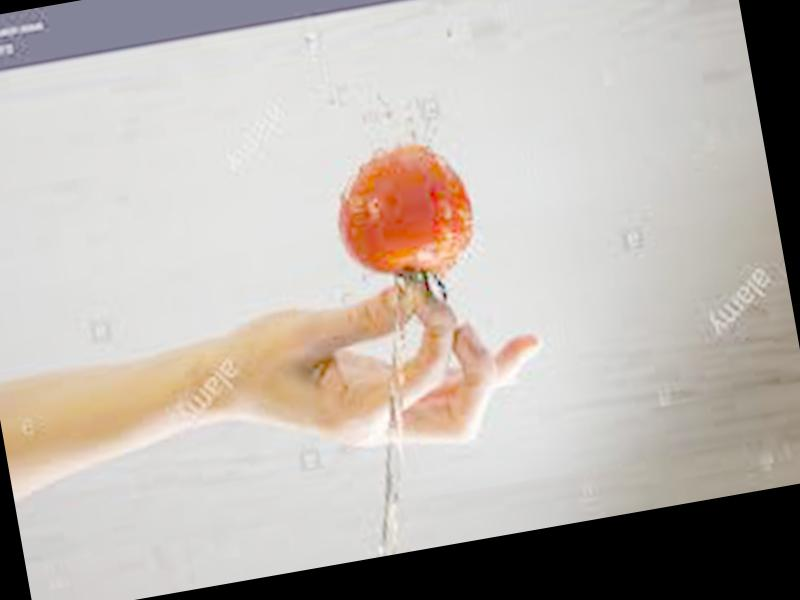Tomato: (322, 134, 477, 286)
